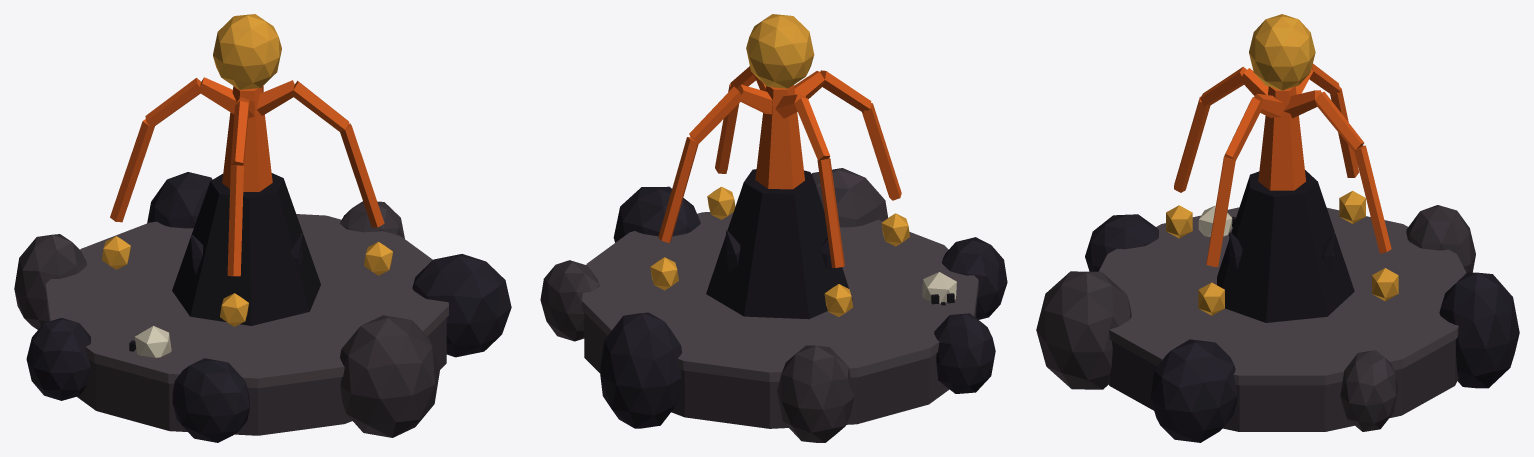
File: Decor_HellGate_LavaFountain.fbx
3 renders of one model, left to right at view 1: azimuth 30°, elevation 25°; view 2: azimuth 150°, elevation 25°; view 3: azimuth 270°, elevation 25°, orthographic.
Parts seen in each view (by area): view 1: LavaFountain_Body; view 2: LavaFountain_Body; view 3: LavaFountain_Body.
Part boxes in pixels (<box>): LavaFountain_Body: <box>14,14,511,442</box>; LavaFountain_Body: <box>540,14,1007,442</box>; LavaFountain_Body: <box>1036,14,1519,442</box>.
Size of the model in its own units: 17.4 by 13.9 by 17.3.
